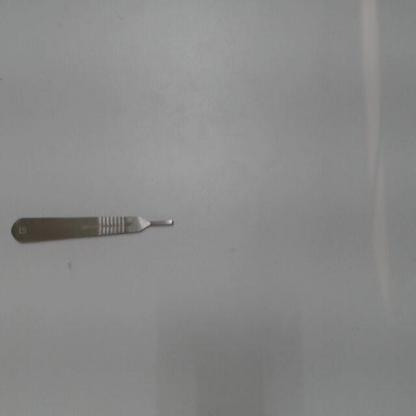No.3 BP Handle: (5, 210, 182, 252)
